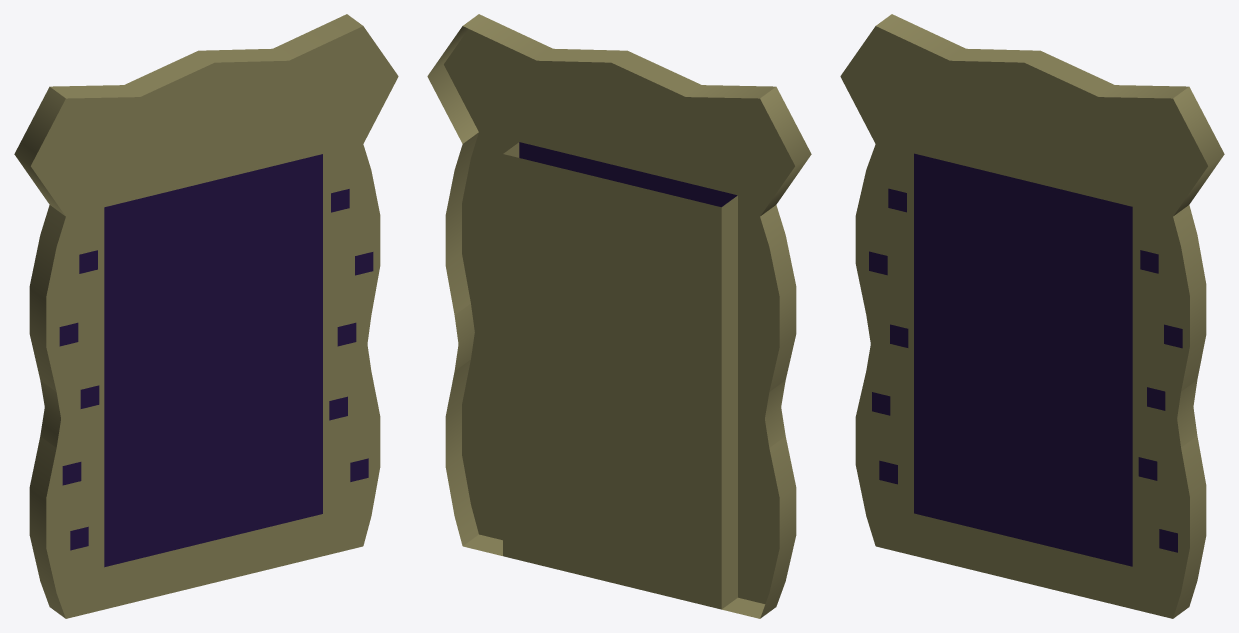
The model's file is PlinkoMachine_Full_MDL.fbx.
3 renders of one model, left to right at view 1: azimuth 30°, elevation 25°; view 2: azimuth 150°, elevation 25°; view 3: azimuth 330°, elevation 25°, orthographic.
Parts seen in each view (by area): view 1: PlinkoMachine_MainBase_MDL, PlinkoMachine_GlassPane_MDL; view 2: PlinkoMachine_MainBase_MDL, PlinkoMachine_BaseWall_MDL, PlinkoMachine_GlassPane_MDL; view 3: PlinkoMachine_MainBase_MDL, PlinkoMachine_GlassPane_MDL.
Boxes of the visible parts, bbox=[...] form: PlinkoMachine_MainBase_MDL: bbox=[14, 14, 398, 618]; PlinkoMachine_GlassPane_MDL: bbox=[104, 154, 322, 567]; PlinkoMachine_MainBase_MDL: bbox=[427, 14, 811, 618]; PlinkoMachine_BaseWall_MDL: bbox=[503, 154, 721, 609]; PlinkoMachine_GlassPane_MDL: bbox=[519, 142, 737, 207]; PlinkoMachine_MainBase_MDL: bbox=[840, 14, 1224, 618]; PlinkoMachine_GlassPane_MDL: bbox=[914, 153, 1132, 566].
Bounding box in the file's own units: 182 × 246 × 14.2.
